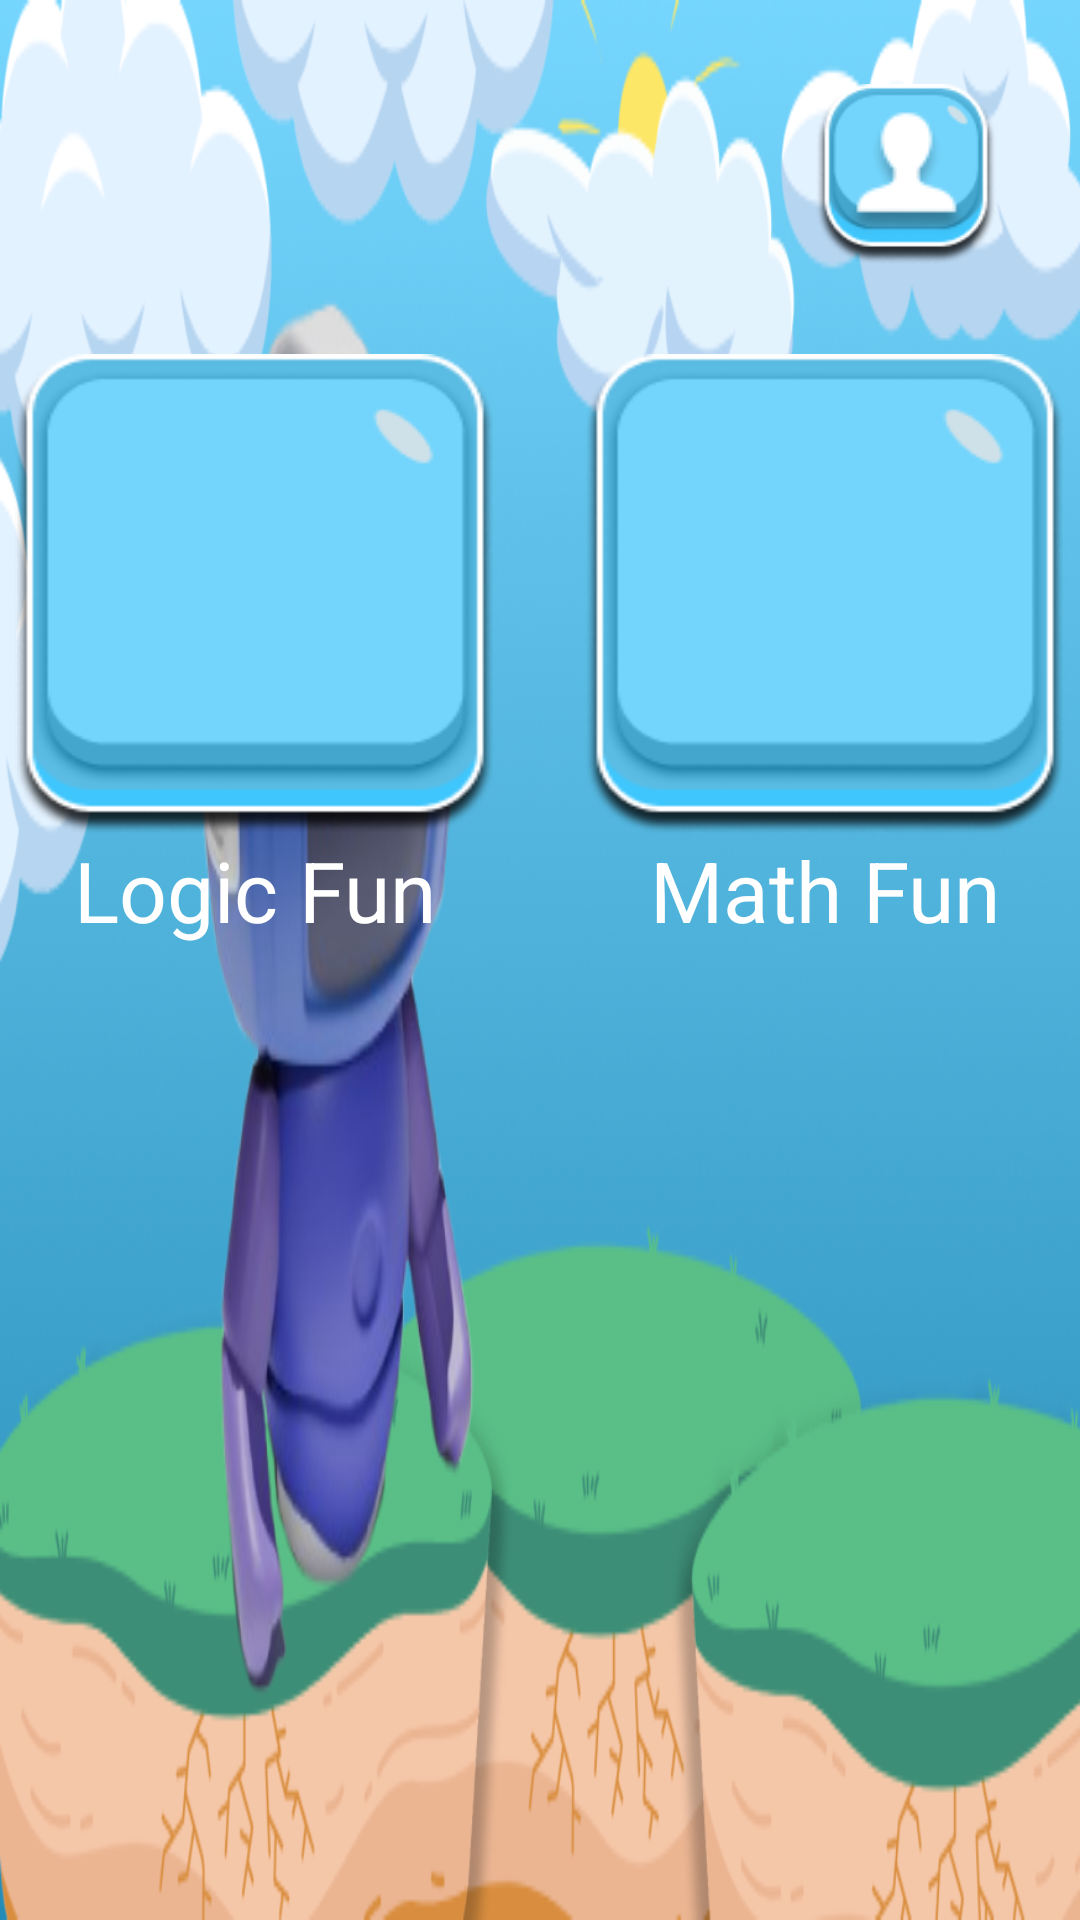

Icon click points for this 1080 × 1920 phone screenshot, format [x,y]:
person: [906,174]
